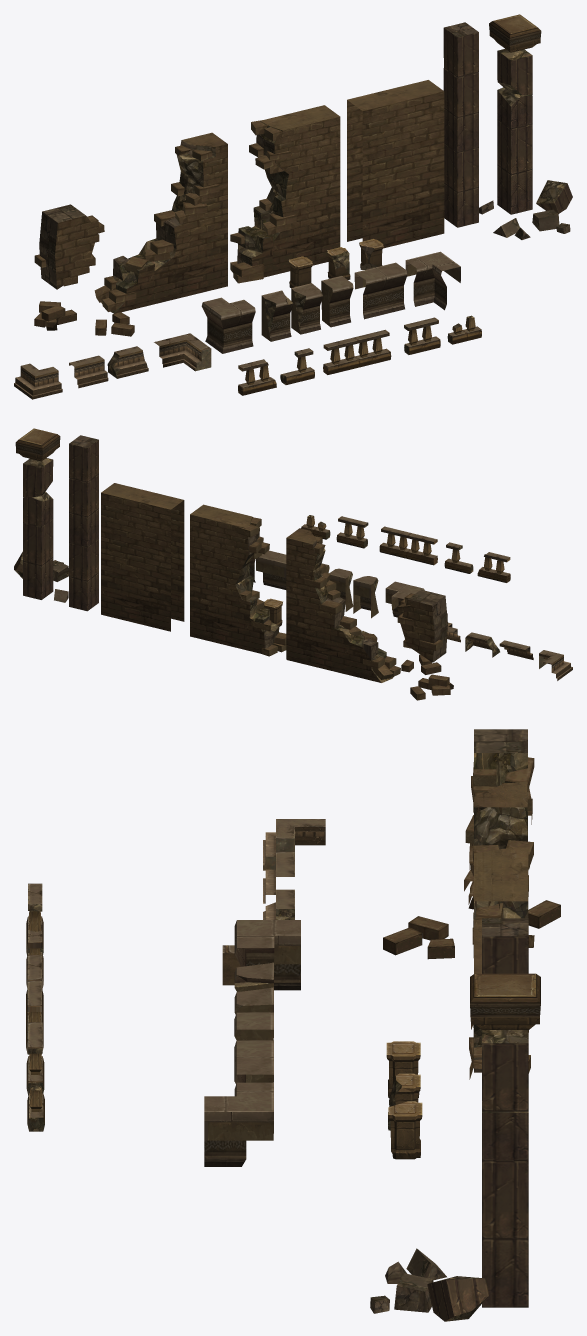
Rendered from hjzc_thing_wujian001.FBX.
The picture shows the model from 3 angles, top to bottom: view 1: azimuth 30°, elevation 25°; view 2: azimuth 150°, elevation 25°; view 3: azimuth 270°, elevation 25°; orthographic projection. The views are drawn at different scales.
Parts seen in each view (by area): view 1: hjzc_bb_poqiang_003, hjzc_bb_poqiang_002, hjzc_bb_poqiang_001, hjzc_thing_BBzhuzhi_002, hjzc_thing_BBzhuzhi_003, hjzc_bb_poqiang_004, hjzc_thing_baobian001, hjzc_thing_baobian005, hjzc_thing_baobian006, hjzc_thing_zalan003, hjzc_thing_BBzhuzhi_004, hjzc_thing_Sbaobian003 (+19 smaller); view 2: hjzc_bb_poqiang_003, hjzc_bb_poqiang_002, hjzc_bb_poqiang_001, hjzc_thing_BBzhuzhi_002, hjzc_thing_BBzhuzhi_003, hjzc_bb_poqiang_004, hjzc_thing_zalan003, hjzc_thing_BBzhuzhi_004, hjzc_thing_BBzhuzhi_001, hjzc_thing_BBzhuzhi_005, hjzc_thing_baobian005, hjzc_thing_baobian002 (+13 smaller); view 3: hjzc_thing_BBzhuzhi_003, hjzc_bb_poqiang_002, hjzc_thing_baobian006, hjzc_thing_BBzhuzhi_001, hjzc_thing_BBzhuzhi_005, hjzc_bb_poqiang_004, hjzc_thing_baobian001, hjzc_bb_poqiang_001, hjzc_thing_BBzhuzhi_004, hjzc_thing_pozhuan_005, hjzc_thing_BBzhuzhi_006, hjzc_thing_suizhuan001 (+15 smaller).
Part boxes in pixels (bbox=[...]): hjzc_bb_poqiang_003: bbox=[347, 80, 444, 248]; hjzc_bb_poqiang_002: bbox=[230, 105, 340, 283]; hjzc_bb_poqiang_001: bbox=[94, 132, 227, 313]; hjzc_thing_BBzhuzhi_002: bbox=[443, 68, 478, 227]; hjzc_thing_BBzhuzhi_003: bbox=[497, 87, 532, 214]; hjzc_bb_poqiang_004: bbox=[34, 204, 104, 289]; hjzc_thing_baobian001: bbox=[201, 297, 255, 353]; hjzc_thing_baobian005: bbox=[354, 262, 407, 319]; hjzc_thing_baobian006: bbox=[405, 251, 460, 310]; hjzc_thing_zalan003: bbox=[323, 329, 391, 374]; hjzc_thing_BBzhuzhi_004: bbox=[443, 22, 478, 77]; hjzc_thing_Sbaobian003: bbox=[154, 333, 211, 371]; hjzc_bb_poqiang_003: bbox=[101, 483, 184, 631]; hjzc_bb_poqiang_002: bbox=[190, 504, 286, 656]; hjzc_bb_poqiang_001: bbox=[286, 528, 400, 682]; hjzc_thing_BBzhuzhi_002: bbox=[69, 474, 98, 611]; hjzc_thing_BBzhuzhi_003: bbox=[23, 491, 53, 599]; hjzc_bb_poqiang_004: bbox=[397, 589, 447, 662]; hjzc_thing_zalan003: bbox=[379, 526, 437, 565]; hjzc_thing_BBzhuzhi_004: bbox=[69, 435, 98, 482]; hjzc_thing_BBzhuzhi_001: bbox=[15, 428, 60, 461]; hjzc_thing_BBzhuzhi_005: bbox=[23, 458, 53, 497]; hjzc_thing_baobian005: bbox=[256, 550, 286, 589]; hjzc_thing_baobian002: bbox=[353, 576, 378, 618]; hjzc_thing_BBzhuzhi_003: bbox=[482, 1101, 528, 1307]; hjzc_bb_poqiang_002: bbox=[468, 840, 533, 1079]; hjzc_thing_baobian006: bbox=[204, 1082, 273, 1166]; hjzc_thing_BBzhuzhi_001: bbox=[470, 973, 540, 1029]; hjzc_thing_BBzhuzhi_005: bbox=[482, 1030, 528, 1111]; hjzc_bb_poqiang_004: bbox=[465, 729, 534, 846]; hjzc_thing_baobian001: bbox=[234, 920, 300, 990]; hjzc_bb_poqiang_001: bbox=[464, 781, 534, 957]; hjzc_thing_BBzhuzhi_004: bbox=[482, 918, 528, 973]; hjzc_thing_pozhuan_005: bbox=[370, 1248, 446, 1313]; hjzc_thing_BBzhuzhi_006: bbox=[427, 1276, 488, 1321]; hjzc_thing_suizhuan001: bbox=[383, 916, 454, 959].
Size of the model in its own units: 2192 by 994 by 691.
